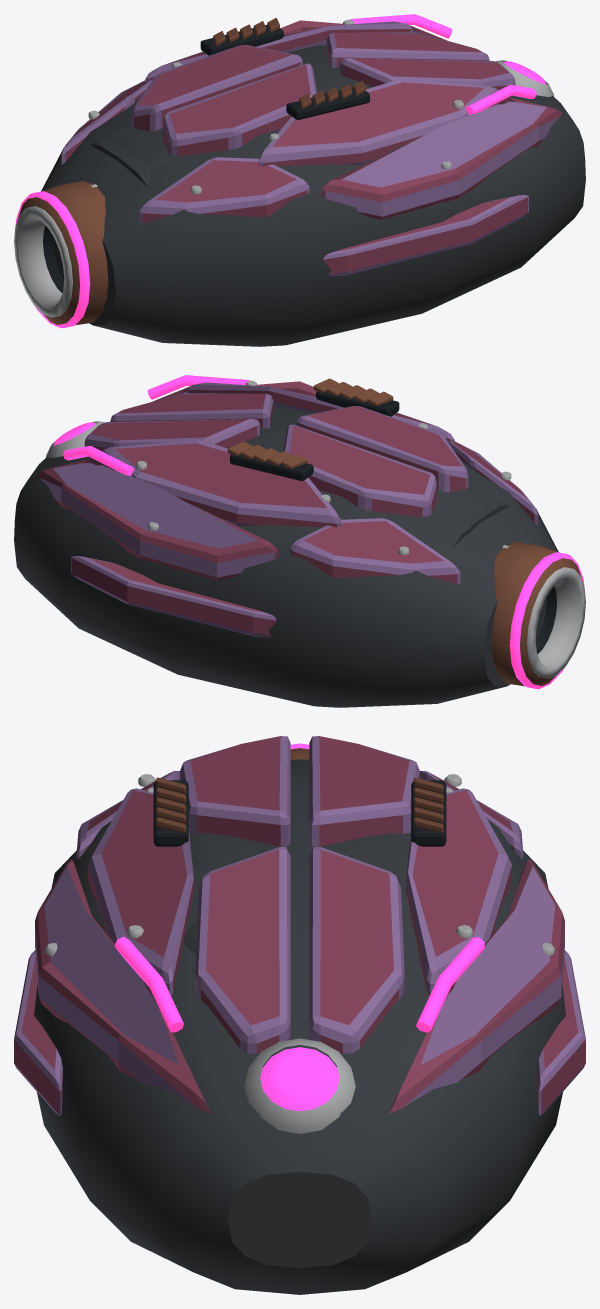
Rendered from Pulse.glb.
3 renders of one model, top to bottom at view 1: azimuth 30°, elevation 25°; view 2: azimuth 150°, elevation 25°; view 3: azimuth 270°, elevation 25°, orthographic. The views are drawn at different scales.
Visible parts, largest first — view 1: Pulse_Shell; view 2: Pulse_Shell; view 3: Pulse_Shell.
Part boxes in pixels (x1,y1,x2,y2): Pulse_Shell: (14, 14, 585, 346); Pulse_Shell: (14, 375, 585, 707); Pulse_Shell: (14, 736, 585, 1294).
Bounding box in the file's own units: 2.38 × 1.08 × 1.51.
